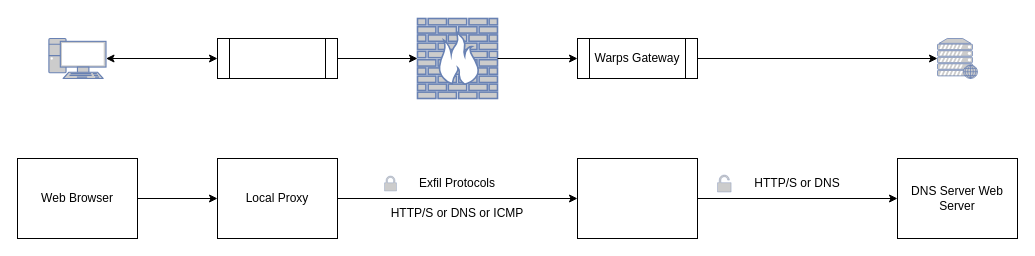
The diagram is 1035 pixels wide and 256 high, and some of its shapes have lost their labels. Here are the shapes that lost their labels. From the top down, the centre of each, then its label:
At pixel 277 58: "Warps Tunnel".
At pixel 637 198: "Remote Proxy".
